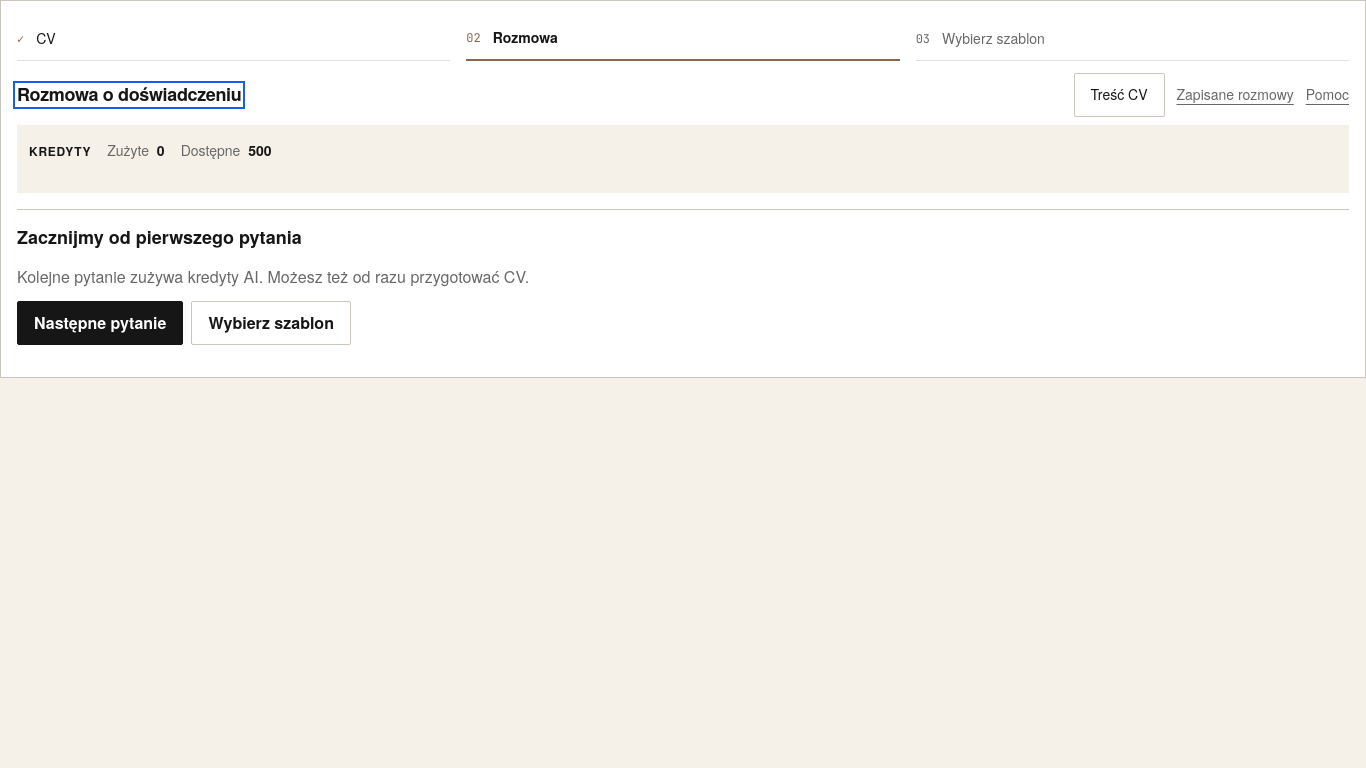
Test: interview task navigation › keeps unchanged stage navigation free and exposes source maintenance only during review
This screenshot has width=1366, height=768.
Check: the button "Następne pytanie" is shown, box 17,301 -> 183,345
Check: the button "Wczytaj aktualne CV do rozmowy" is not shown
Click the button "Treść CV".
click(1119, 95)  # box 1074,73 -> 1165,117
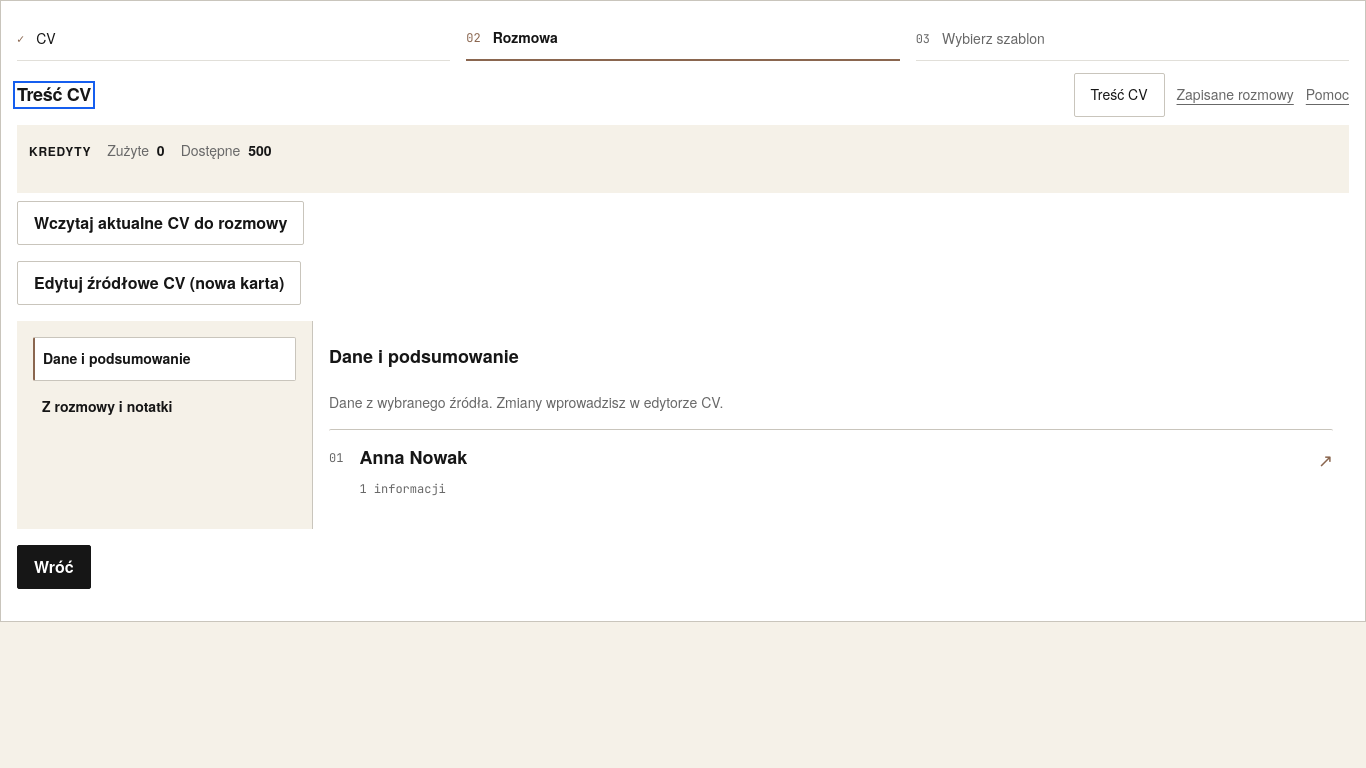
Check: the button "Wczytaj aktualne CV do rozmowy" is enabled, box 17,201 -> 304,245
Click the button "Wróć".
click(54, 568)  # box 17,546 -> 91,590
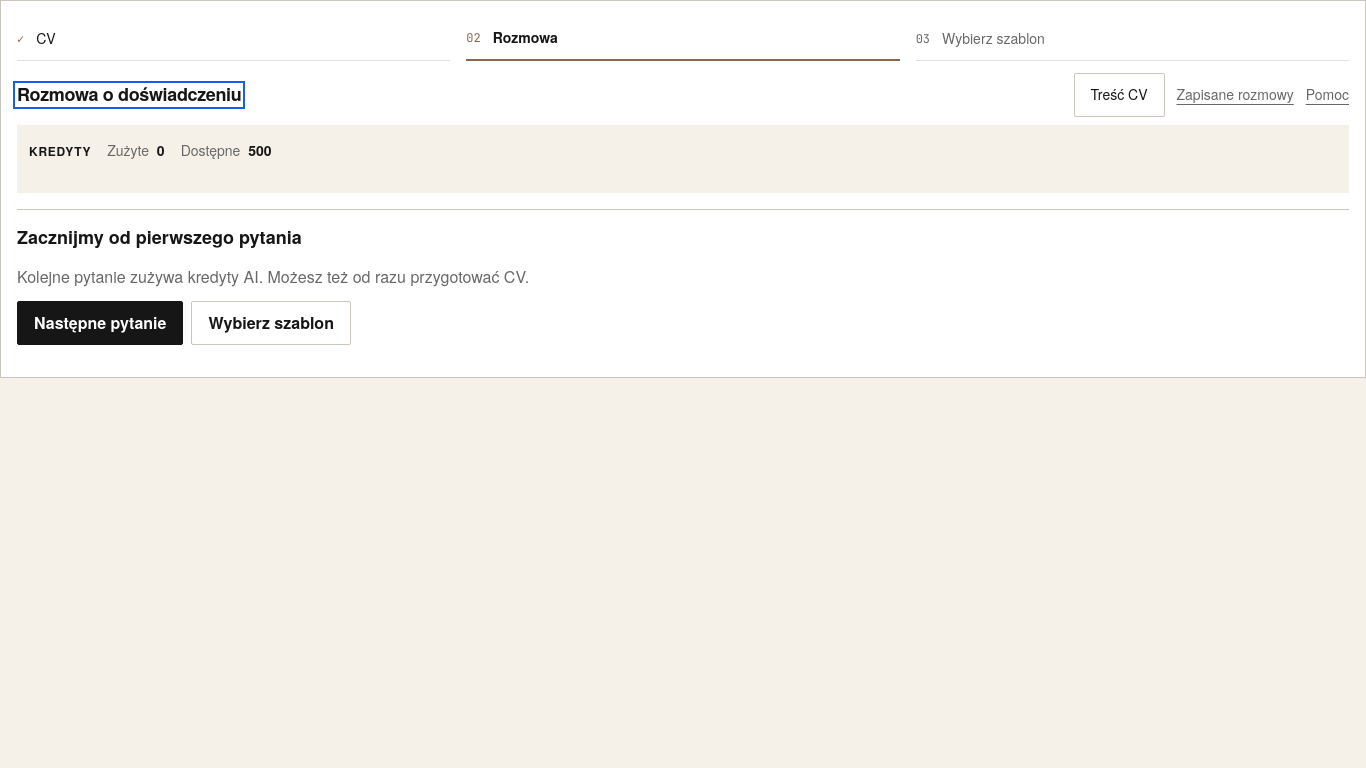
Click the button "Wybierz szablon".
click(271, 323)  # box 191,301 -> 351,345
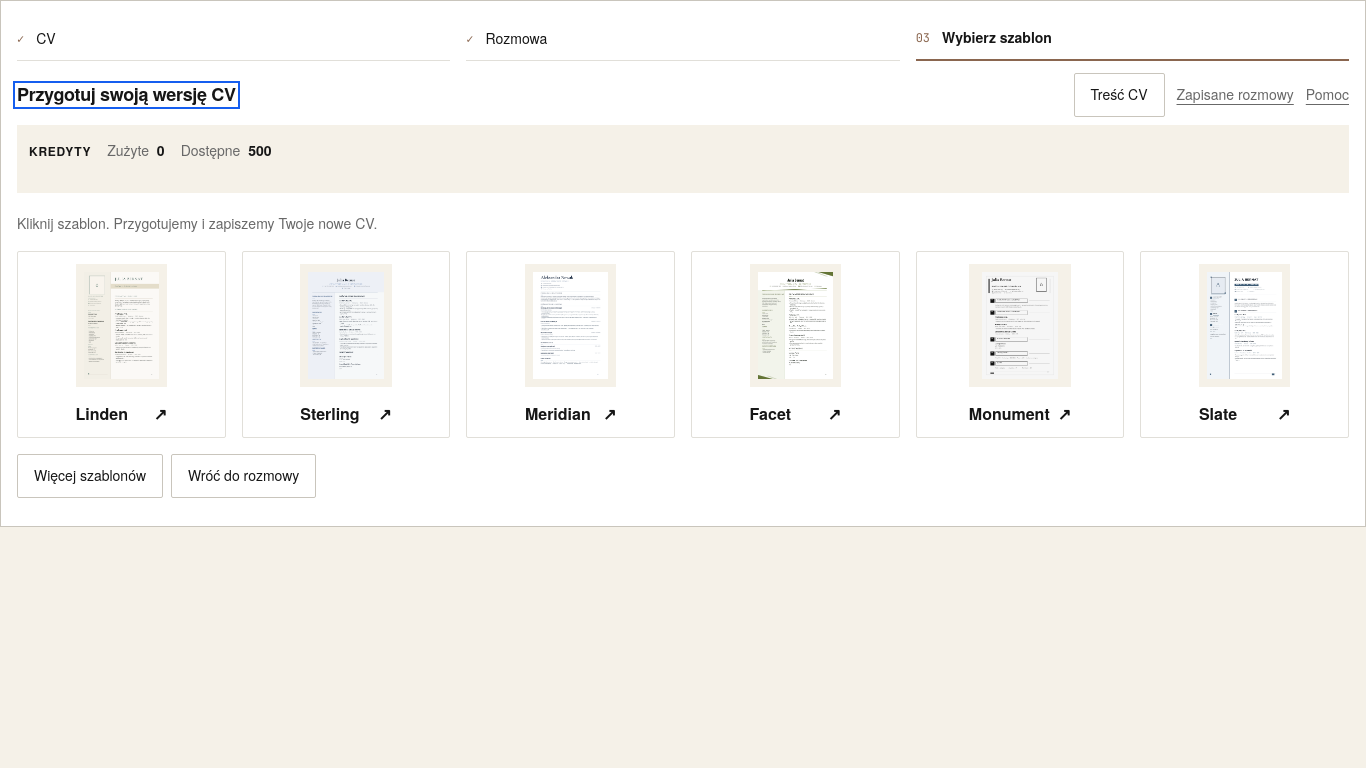
Check: the button with aria-label "Utwórz CV · Linden" is enabled, box 17,251 -> 226,438
